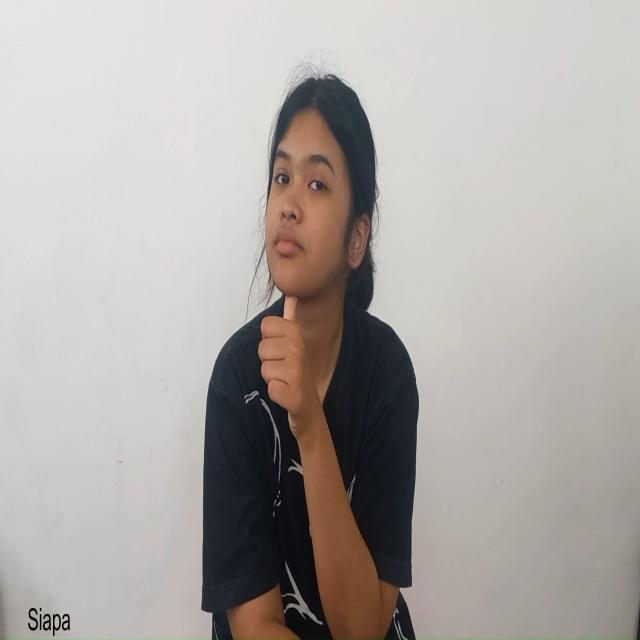Siapa -BISINDO-: (257, 71, 379, 448)
